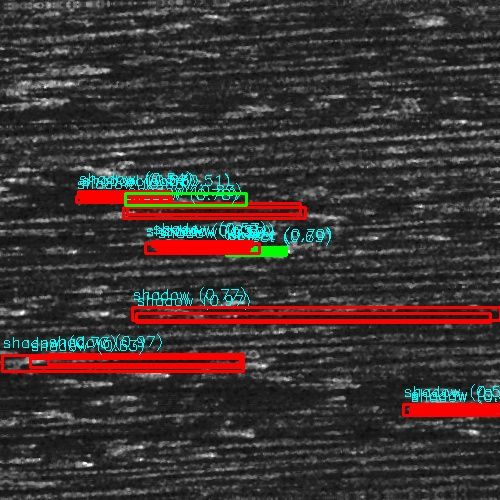rock: (219, 352, 292, 365), (154, 210, 237, 219), (299, 192, 362, 201), (327, 366, 400, 371), (229, 246, 270, 251), (0, 411, 37, 416)
shadow: (0, 313, 364, 322), (256, 352, 438, 365), (196, 210, 369, 219), (331, 192, 418, 201), (364, 366, 456, 371), (250, 246, 341, 251), (6, 411, 91, 416), (0, 340, 49, 347), (0, 326, 33, 333), (0, 226, 35, 229)
